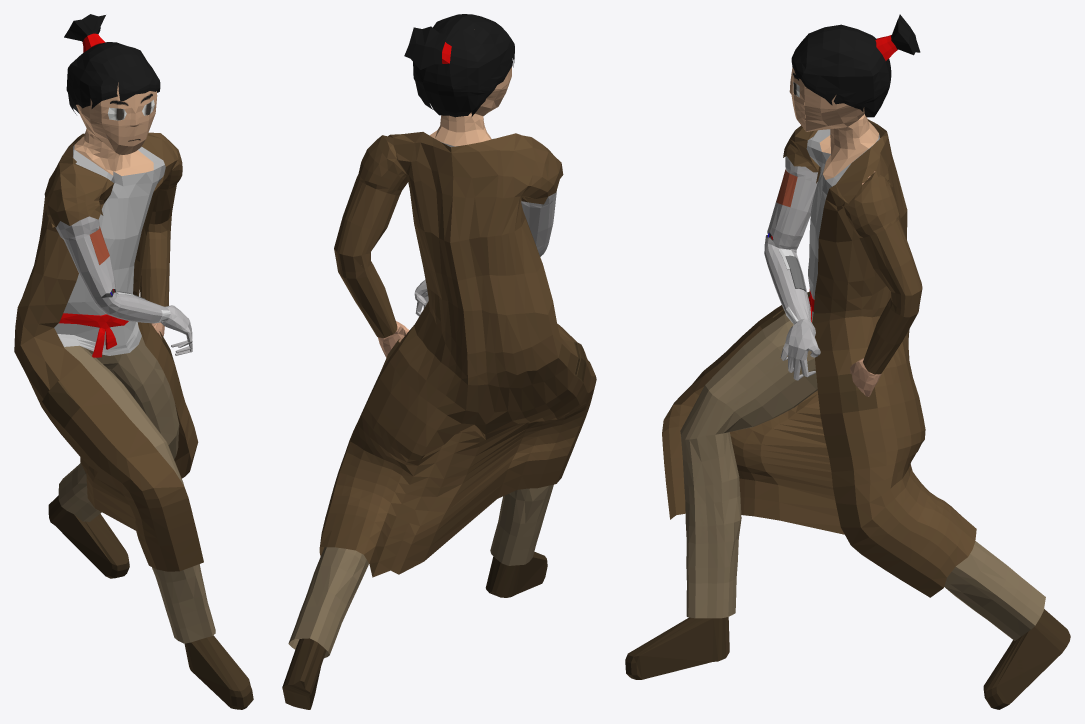
The model's file is One_DR_000009.obj.
The picture shows the model from 3 angles, left to right: view 1: azimuth 30°, elevation 25°; view 2: azimuth 150°, elevation 25°; view 3: azimuth 270°, elevation 25°; orthographic projection. The views are drawn at different scales.
Visible parts, largest first — view 1: Hair_Cube.004; view 2: Hair_Cube.004; view 3: Hair_Cube.004.
Boxes of the visible parts, box(x1,y1,x2,y2) form: Hair_Cube.004: box(14, 14, 253, 709); Hair_Cube.004: box(282, 14, 596, 709); Hair_Cube.004: box(625, 14, 1070, 709).
Size of the model in its own units: 1.17 by 3.66 by 2.27.
